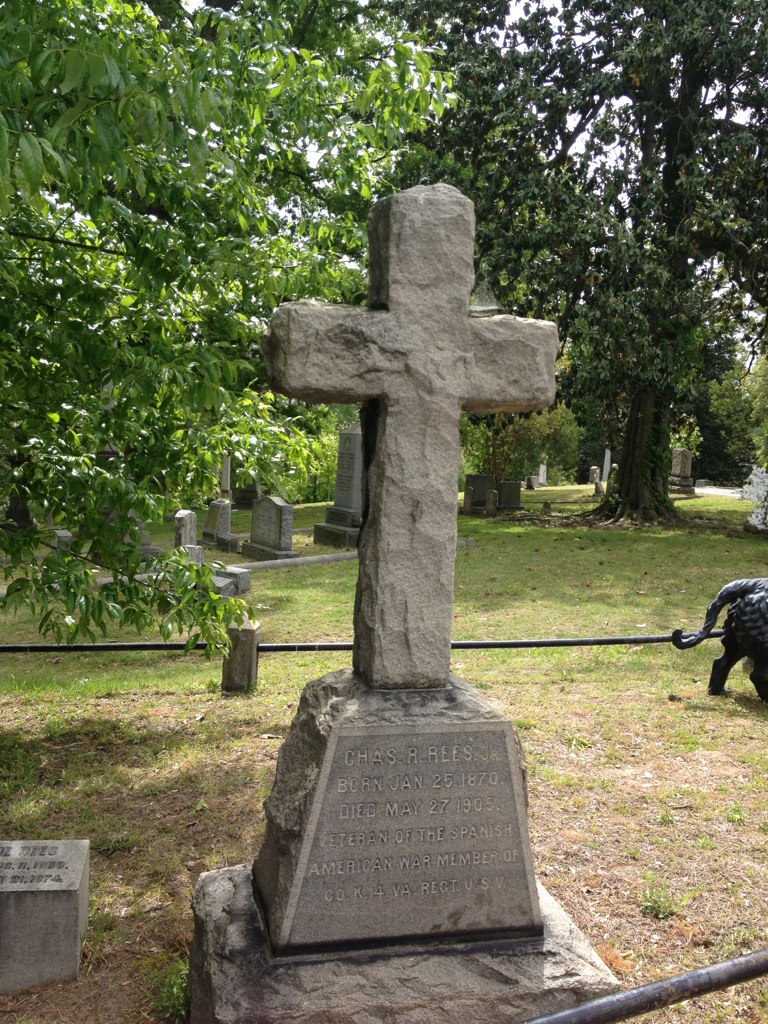obelisk: (256, 187, 549, 947)
